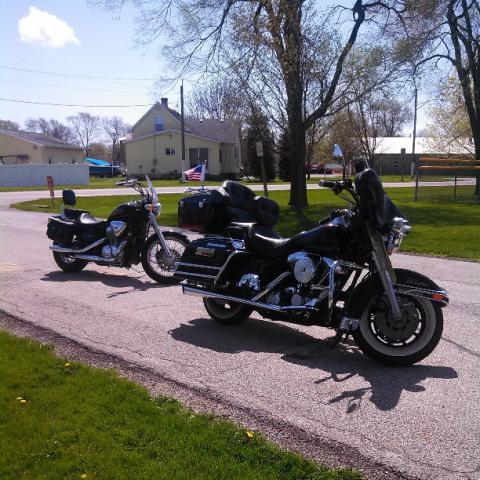motorcycle: (170, 145, 451, 366), (46, 175, 186, 289)
